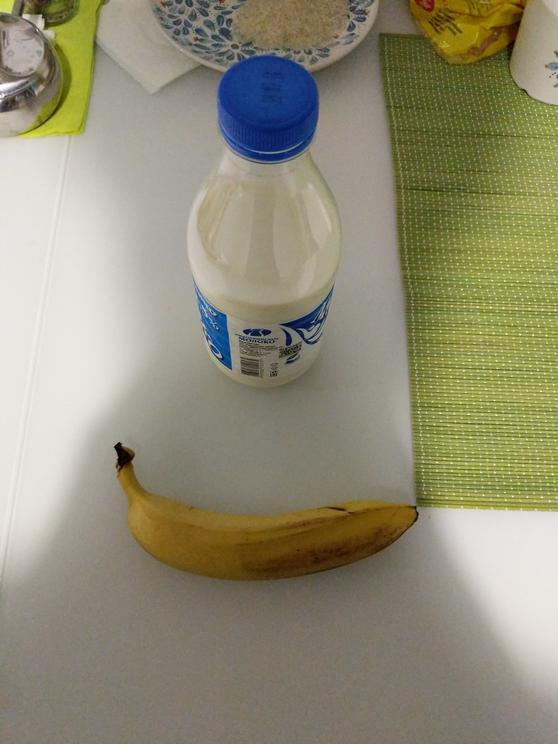banana: (109, 439, 427, 582)
milk: (180, 52, 347, 394)
rice: (232, 1, 350, 56)
